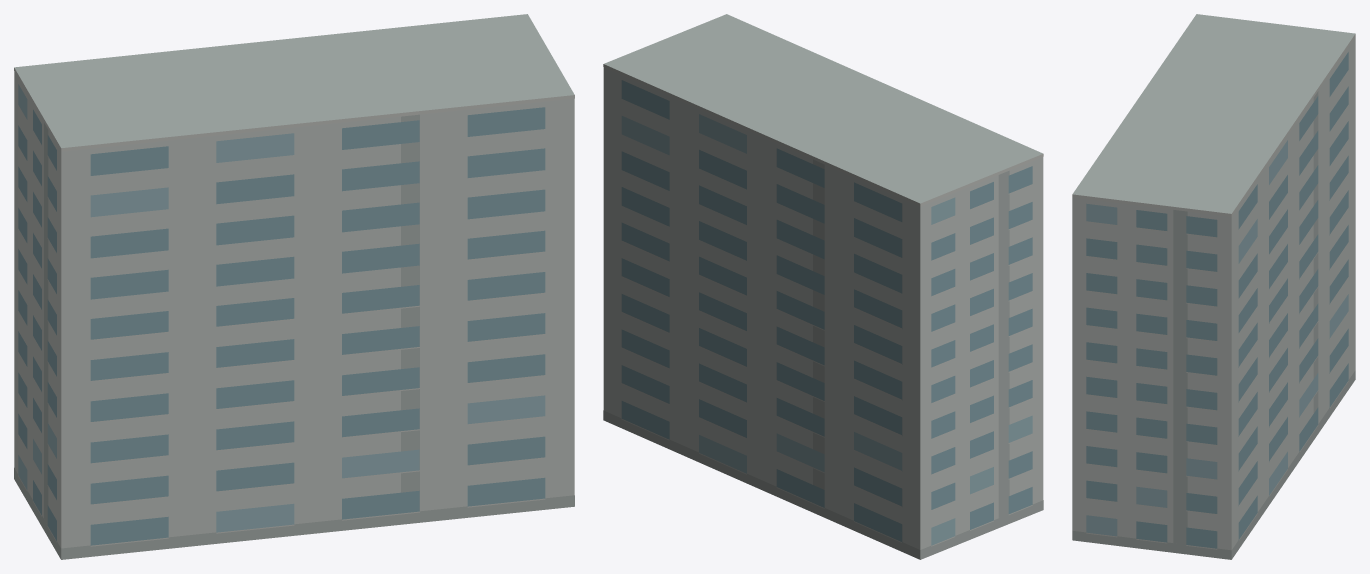
The model's file is residential-dc7fdfca-5ced-49d7-bdcb-8284a02679a4.glb.
3 views of the same model, side by side, from view 1: azimuth 30°, elevation 25°; view 2: azimuth 150°, elevation 25°; view 3: azimuth 270°, elevation 25° (orthographic). The views are drawn at different scales.
Visible parts, largest first — view 1: residential-dc7fdfca-5ced-49d7-bdcb-8284a02679a4.tmp; view 2: residential-dc7fdfca-5ced-49d7-bdcb-8284a02679a4.tmp; view 3: residential-dc7fdfca-5ced-49d7-bdcb-8284a02679a4.tmp.
Part boxes in pixels (x1=…): residential-dc7fdfca-5ced-49d7-bdcb-8284a02679a4.tmp: x1=14, y1=14, x2=574, y2=559; residential-dc7fdfca-5ced-49d7-bdcb-8284a02679a4.tmp: x1=603, y1=14, x2=1043, y2=559; residential-dc7fdfca-5ced-49d7-bdcb-8284a02679a4.tmp: x1=1072, y1=14, x2=1355, y2=559.
Size of the model in its own units: 34.71 by 28 by 20.78.
